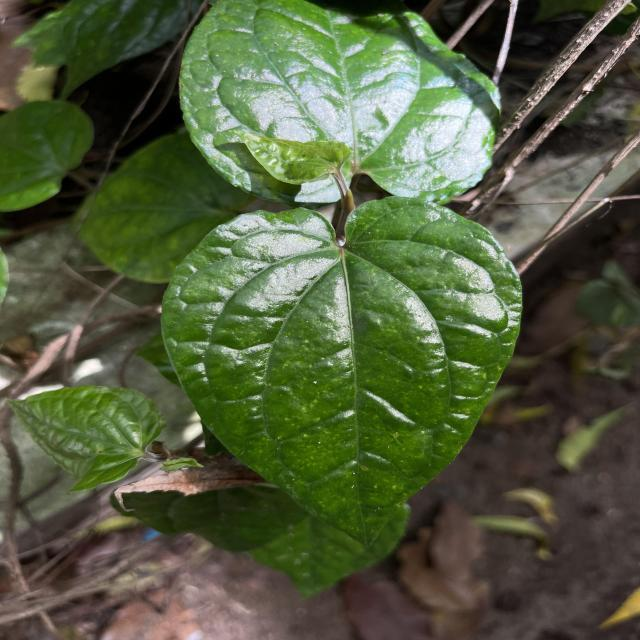Piper betle: (158, 192, 530, 550)
